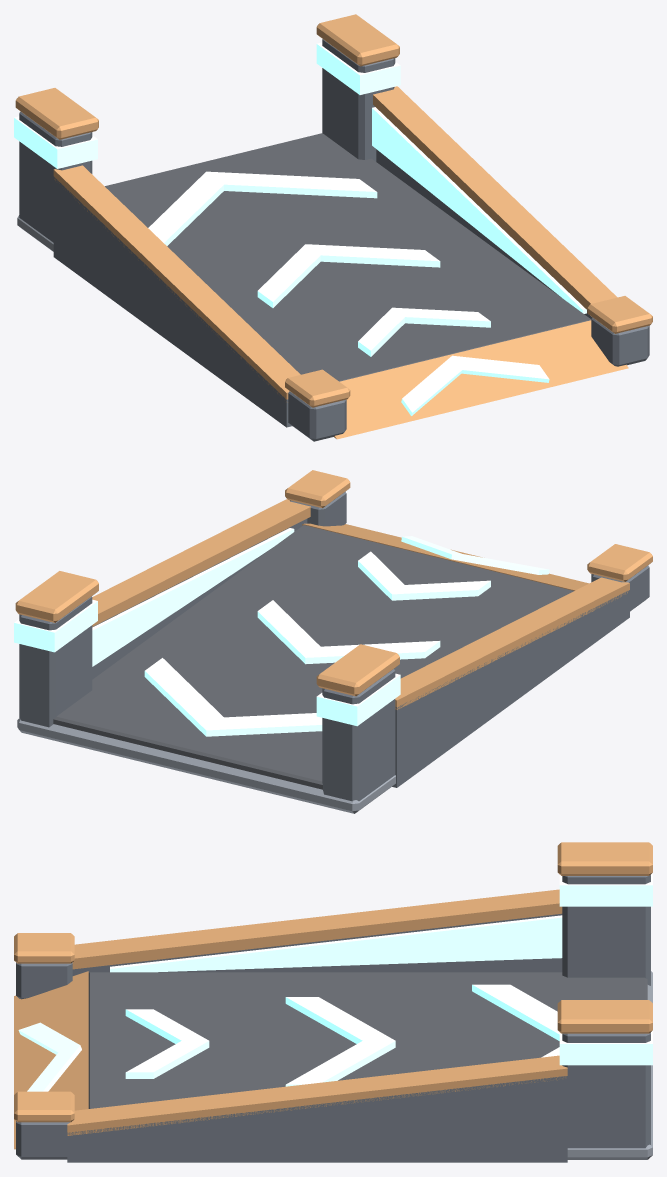
File: BoostPad.fbx
The picture shows the model from 3 angles, top to bottom: view 1: azimuth 30°, elevation 25°; view 2: azimuth 150°, elevation 25°; view 3: azimuth 270°, elevation 25°; orthographic projection. The views are drawn at different scales.
Parts seen in each view (by area): view 1: BoostPad.TreadDeck, BoostPad.RailCaps, BoostPad.RailBodies, BoostPad.EntryRamp, BoostPad.ExitPosts, BoostPad.RailGlow, BoostPad.PostCaps, BoostPad.Chevron3, BoostPad.EntryBollards, BoostPad.Chevron2, BoostPad.PostLights, BoostPad.BollardCaps (+2 smaller); view 2: BoostPad.TreadDeck, BoostPad.RailBodies, BoostPad.RailCaps, BoostPad.ExitPosts, BoostPad.DeckSlab, BoostPad.PostCaps, BoostPad.RailGlow, BoostPad.Chevron3, BoostPad.PostLights, BoostPad.BollardCaps, BoostPad.Chevron2, BoostPad.Chevron1 (+3 smaller); view 3: BoostPad.TreadDeck, BoostPad.RailBodies, BoostPad.RailCaps, BoostPad.ExitPosts, BoostPad.RailGlow, BoostPad.PostCaps, BoostPad.EntryRamp, BoostPad.PostLights, BoostPad.Chevron2, BoostPad.BollardCaps, BoostPad.EntryBollards, BoostPad.Chevron1 (+3 smaller).
Part boxes in pixels (x1,y1,x2,y2): BoostPad.TreadDeck: (105, 133, 591, 381); BoostPad.RailCaps: (53, 86, 617, 401); BoostPad.RailBodies: (53, 149, 592, 427); BoostPad.EntryRamp: (334, 320, 628, 439); BoostPad.ExitPosts: (19, 39, 395, 242); BoostPad.RailGlow: (372, 107, 586, 313); BoostPad.PostCaps: (15, 14, 399, 139); BoostPad.Chevron3: (148, 171, 377, 245); BoostPad.EntryBollards: (288, 317, 649, 441); BoostPad.Chevron2: (257, 244, 440, 307); BoostPad.PostLights: (14, 42, 400, 168); BoostPad.BollardCaps: (285, 296, 652, 407); BoostPad.TreadDeck: (53, 525, 573, 789); BoostPad.RailBodies: (92, 519, 629, 787); BoostPad.RailCaps: (92, 499, 629, 709); BoostPad.ExitPosts: (19, 596, 395, 801); BoostPad.DeckSlab: (17, 718, 395, 813); BoostPad.PostCaps: (15, 571, 399, 696); BoostPad.RailGlow: (92, 528, 294, 666); BoostPad.Chevron3: (144, 658, 322, 736); BoostPad.PostLights: (14, 599, 400, 726); BoostPad.BollardCaps: (285, 470, 652, 581); BoostPad.Chevron2: (257, 600, 440, 664); BoostPad.Chevron1: (358, 551, 490, 600); BoostPad.TreadDeck: (88, 972, 647, 1108); BoostPad.RailBodies: (67, 913, 567, 1162); BoostPad.RailCaps: (67, 889, 567, 1135); BoostPad.ExitPosts: (562, 874, 650, 1148); BoostPad.RailGlow: (110, 915, 562, 972); BoostPad.PostCaps: (557, 842, 652, 1033); BoostPad.EntryRamp: (14, 971, 88, 1149); BoostPad.PostLights: (559, 873, 652, 1065); BoostPad.Chevron2: (285, 997, 395, 1086); BoostPad.BollardCaps: (14, 933, 74, 1122); BoostPad.EntryBollards: (16, 962, 72, 1159); BoostPad.Chevron1: (125, 1009, 209, 1078).
Size of the model in its own units: 8 by 2.94 by 12.
